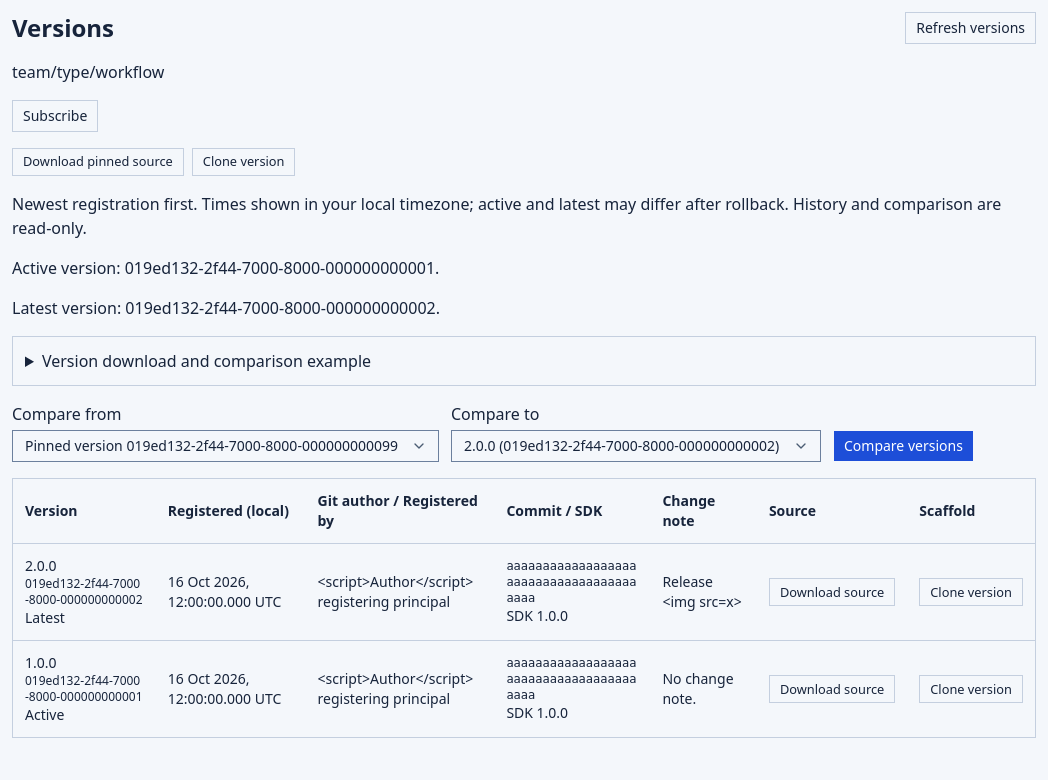
Test: version history, comparison and read-only states › downloads an exact pinned version even when it is outside the loaded history page
Click the button "Download pinned source": (98, 162) [12,148,184,176]
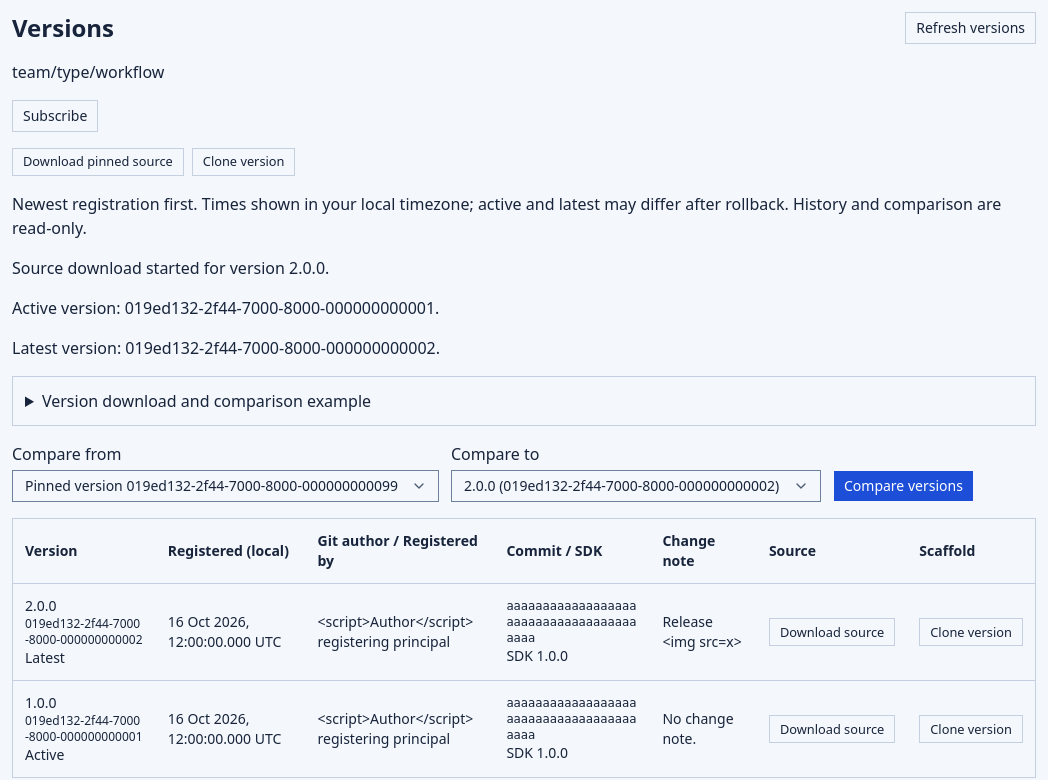
Expected: the text "Source download started for version 2.0.0." is shown, [12,257,329,279]
